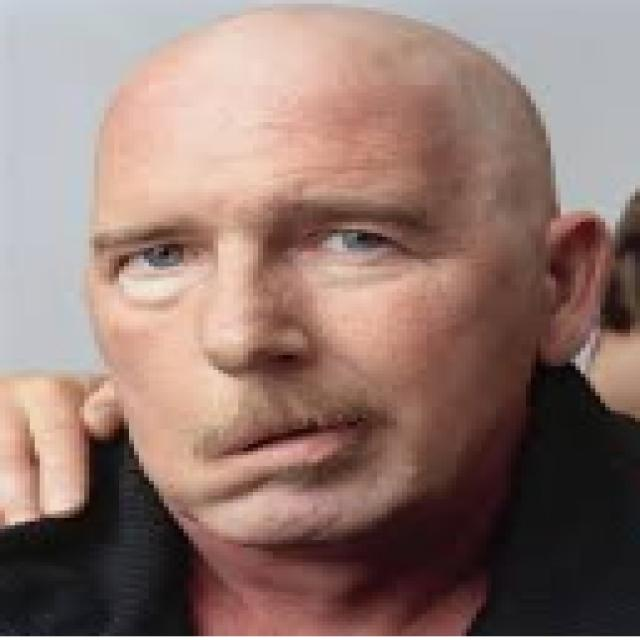stroke_face: (57, 26, 592, 551)
